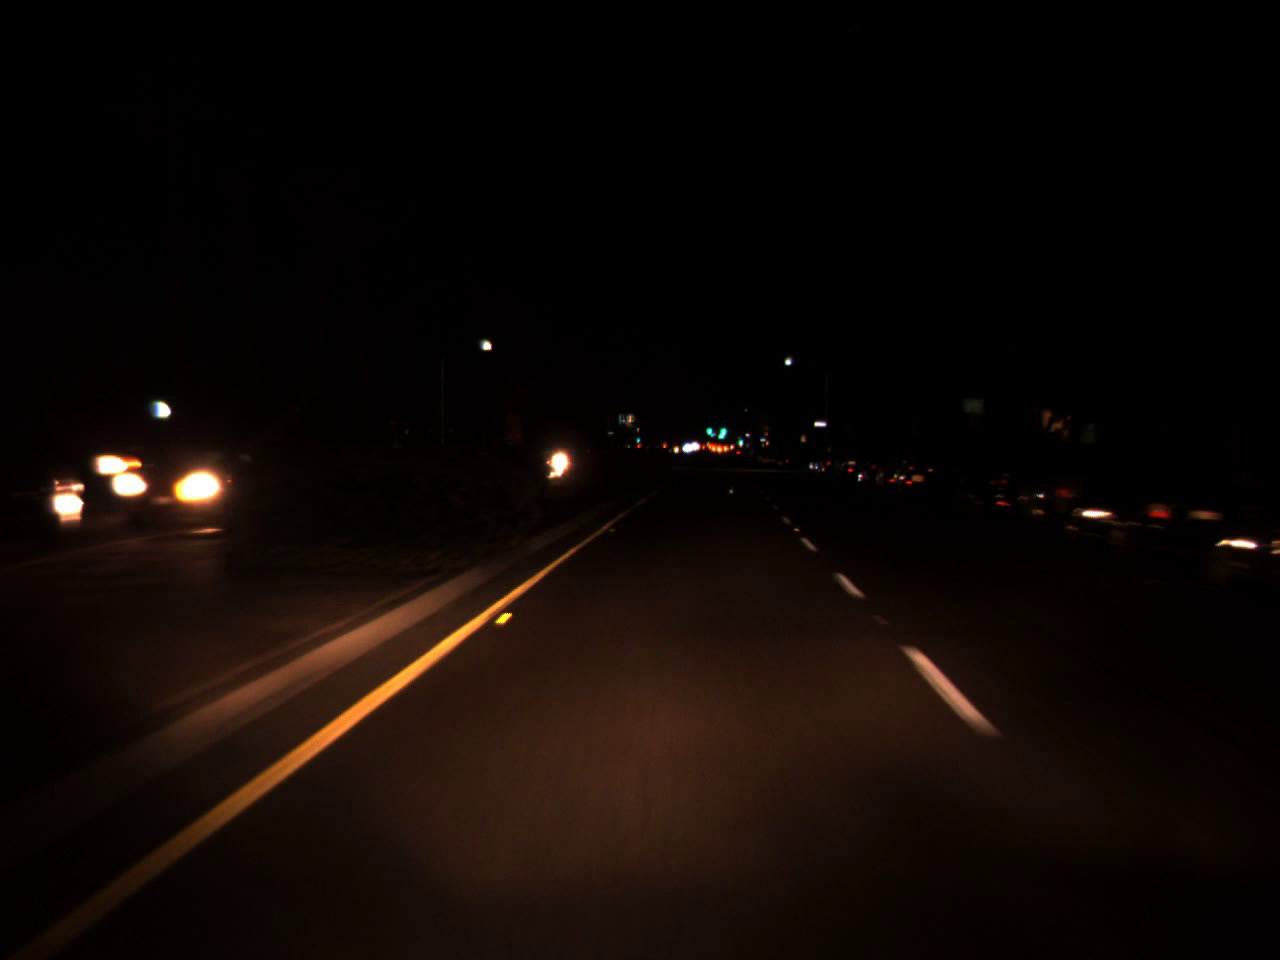go: (715, 415, 727, 442), (735, 432, 744, 447), (703, 419, 712, 435)
